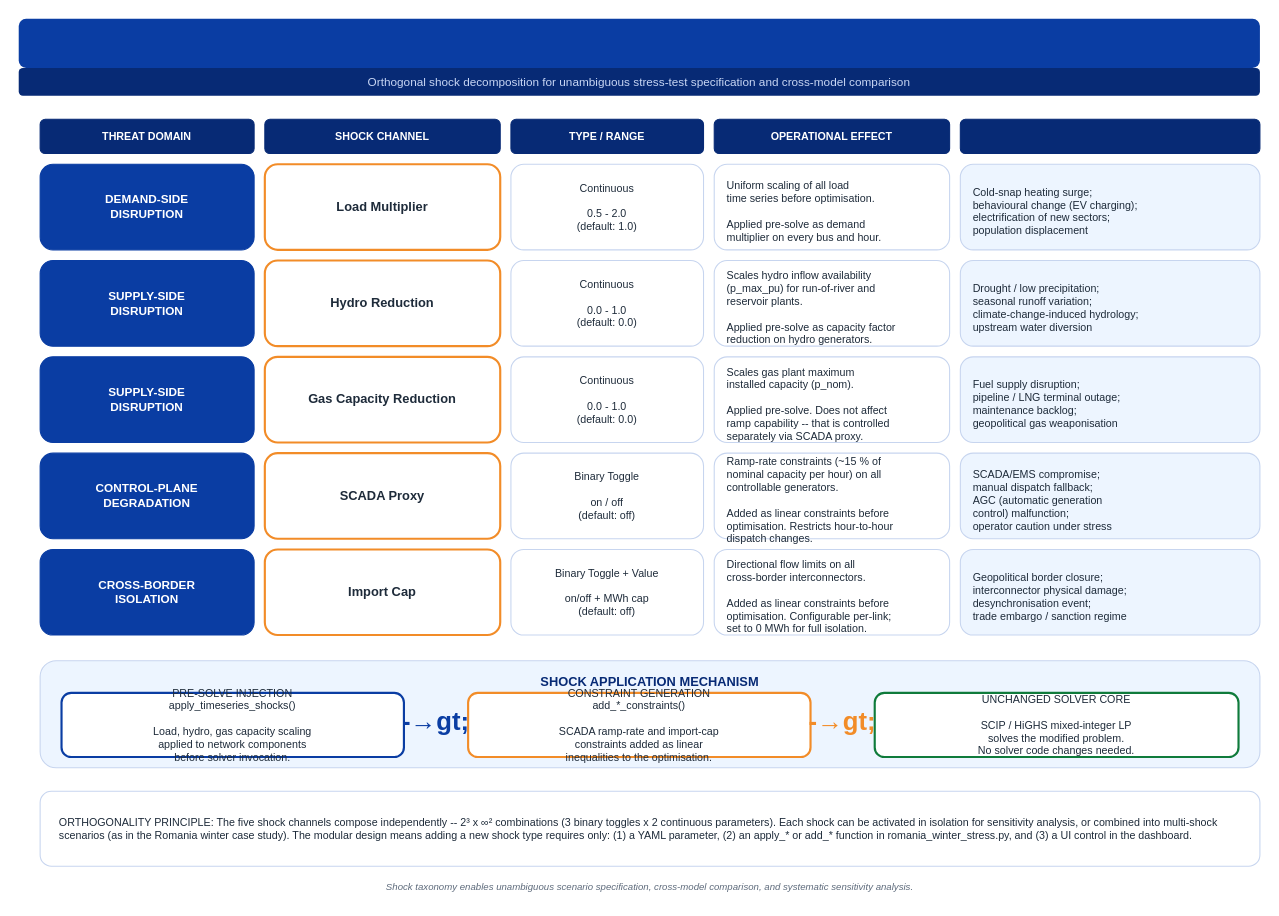
The diagram is 1279 pixels wide and 916 high, and some of its shapes have lost their labels. Here are the shapes that lost their labels. From the top down, the box of each, then its label:
(18, 18, 1259, 67): Stress-Test Shock Taxonomy -- Classification, Semantics, and Operational Mapping
(959, 118, 1260, 154): REAL-WORLD ANALOGUE
